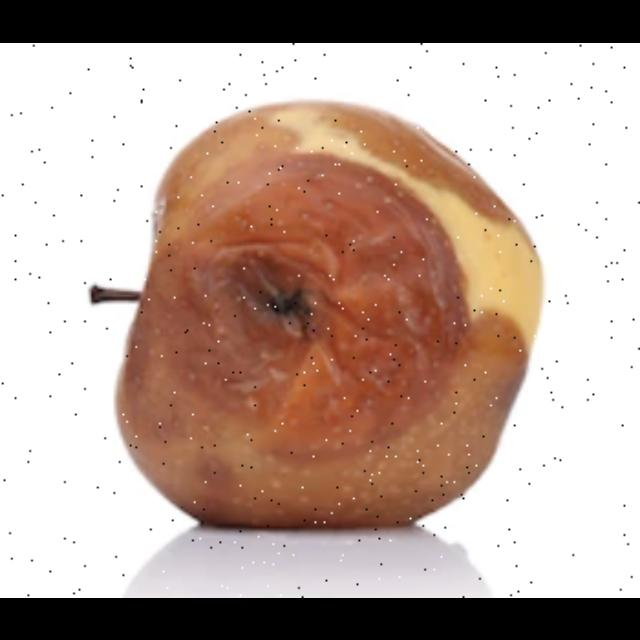Apel Tidak Segar: (14, 61, 590, 575)
